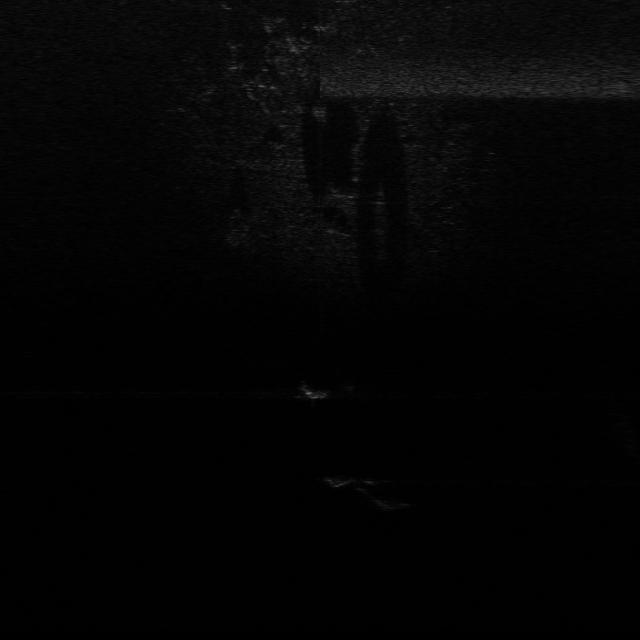cube: (314, 470, 357, 490)
square cage: (293, 382, 333, 402)
tyre: (353, 477, 411, 513)
